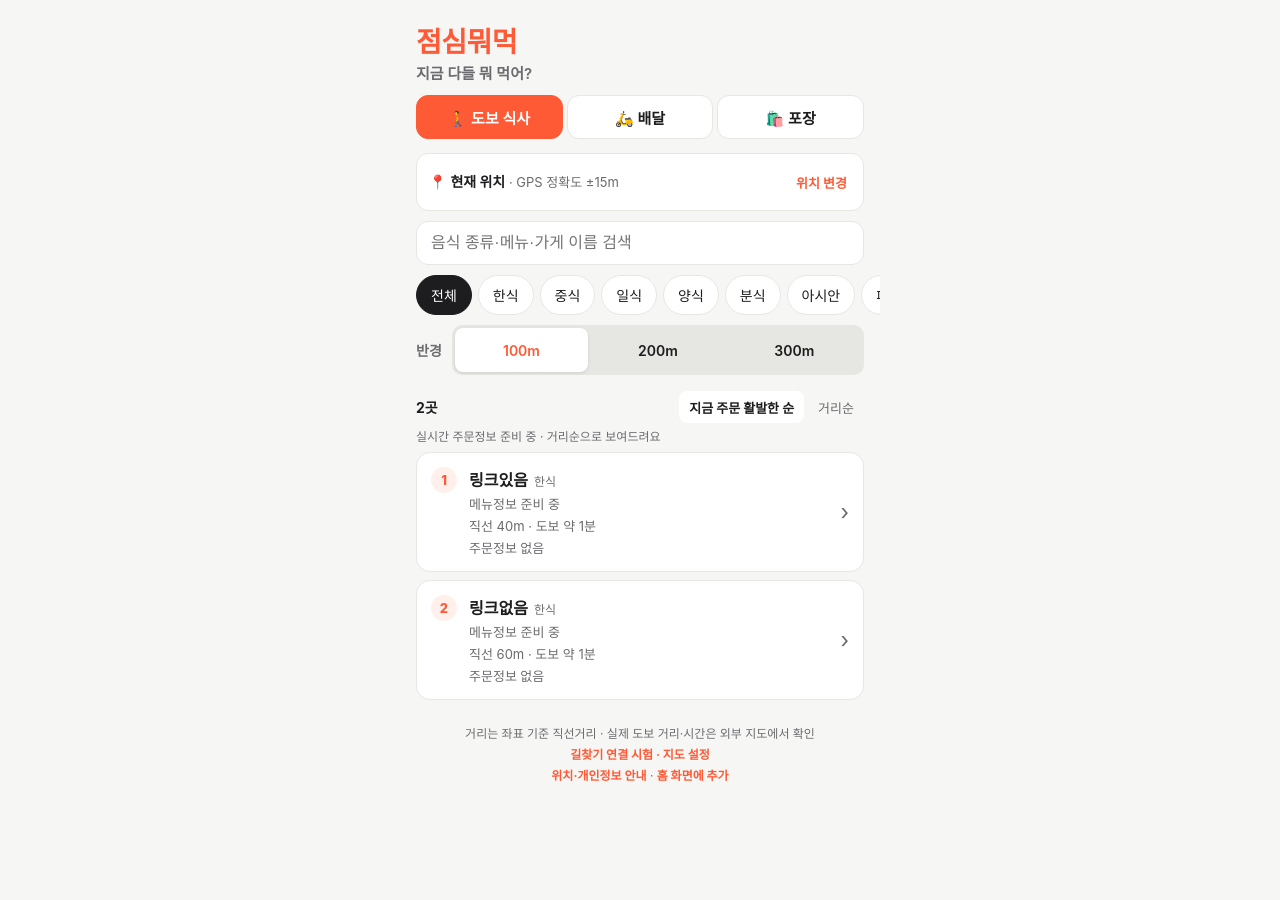
Test: 8단계 — 시범 서비스 점검 › 상세화면 ‘네이버에서 메뉴 보기’: 저장된 매장 링크 또는 이름·지역 검색 (네이버 정보임을 밝힌다)
This screenshot has width=1280, height=900.
Click the button "1 링크있음 한식 메뉴정보 준비 중 직선 40m · 도보 약 1분 주문정보 없음 ›": (498,480) [417,453,863,571]
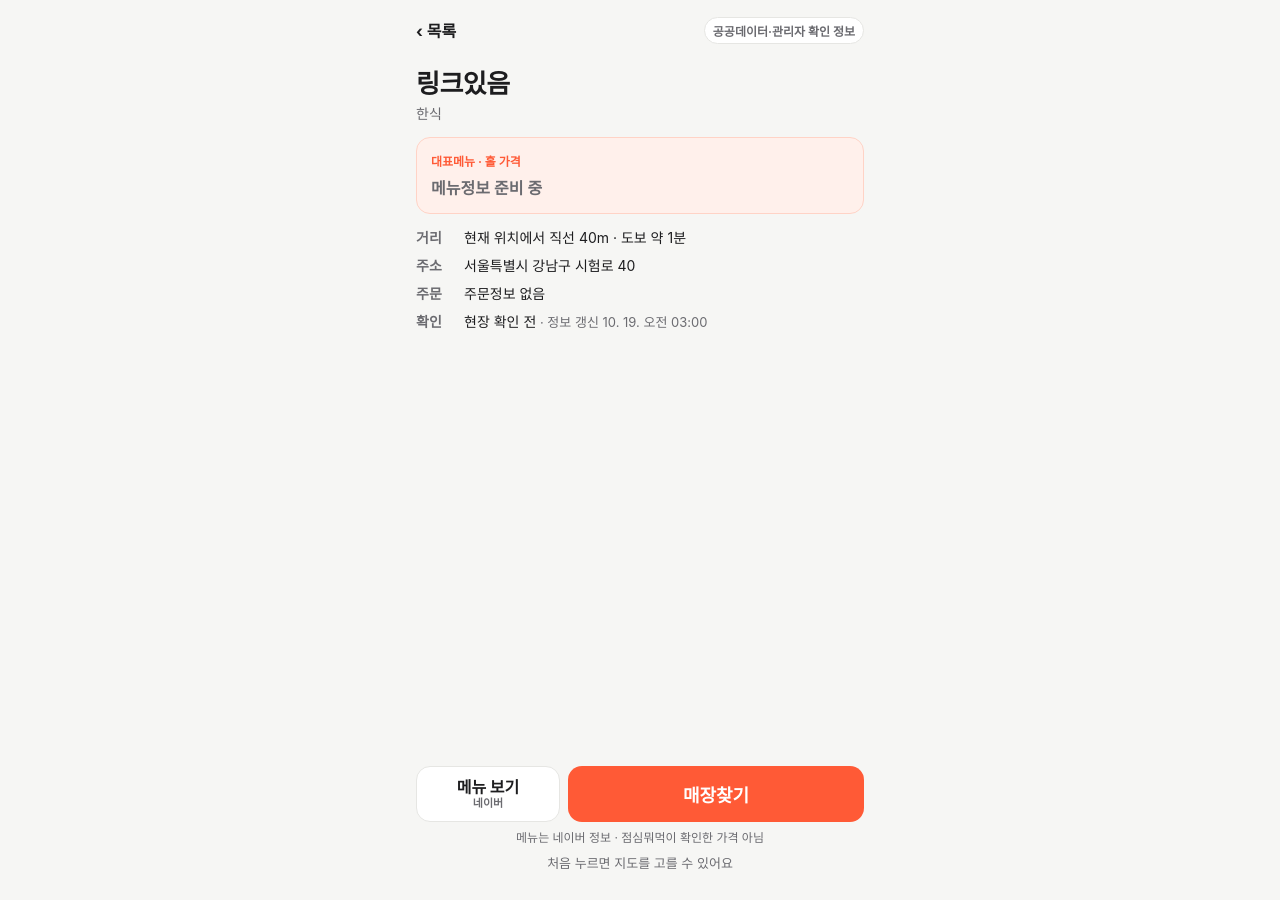
Result: the dialog named "상세정보" shows "점심뭐먹이 확인한 가격 아님" at [516,830,764,845]
Click the button "‹ 목록": (440,30) [416,8,464,52]
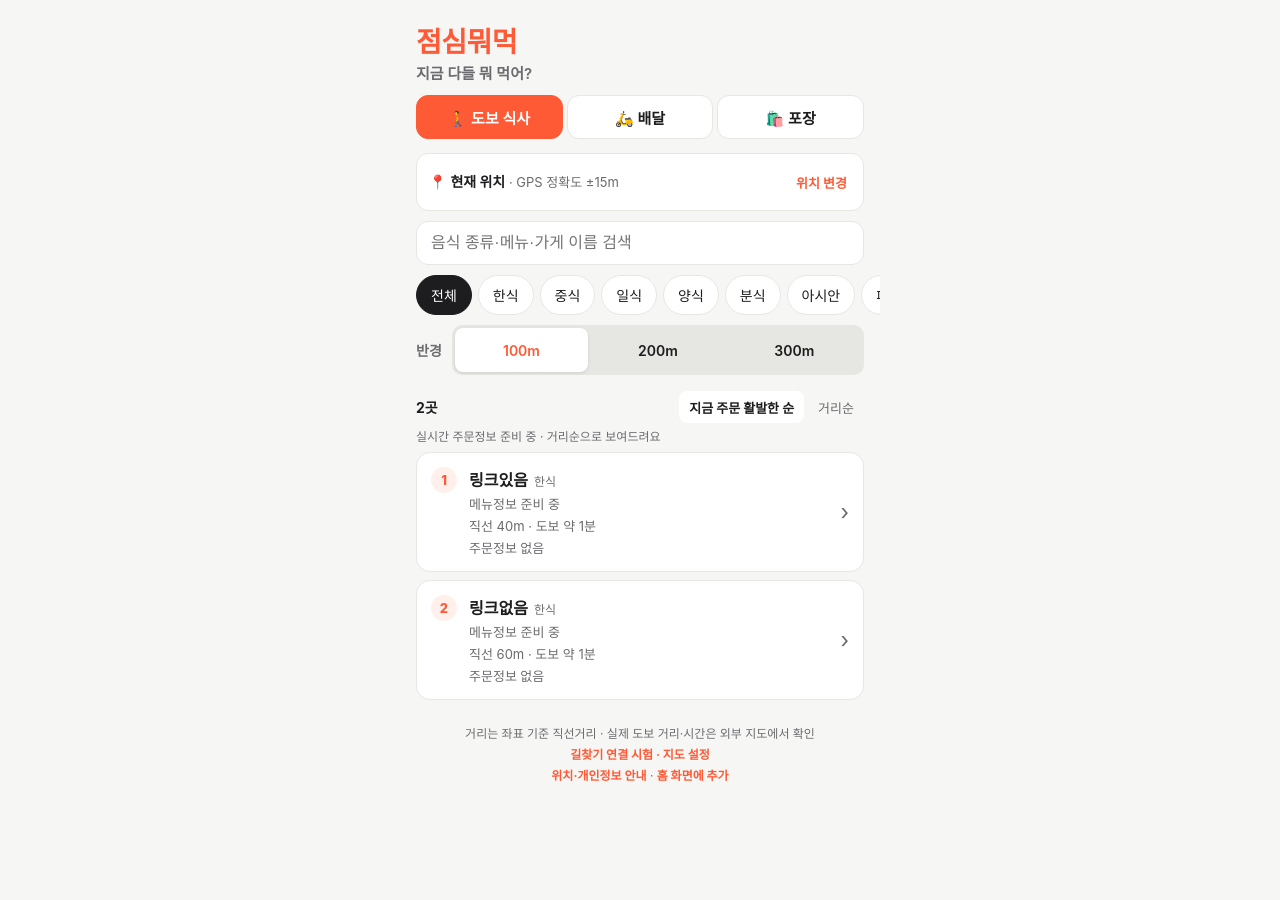
Click the button "2 링크없음 한식 메뉴정보 준비 중 직선 60m · 도보 약 1분 주문정보 없음 ›": (498,608) [417,581,863,699]
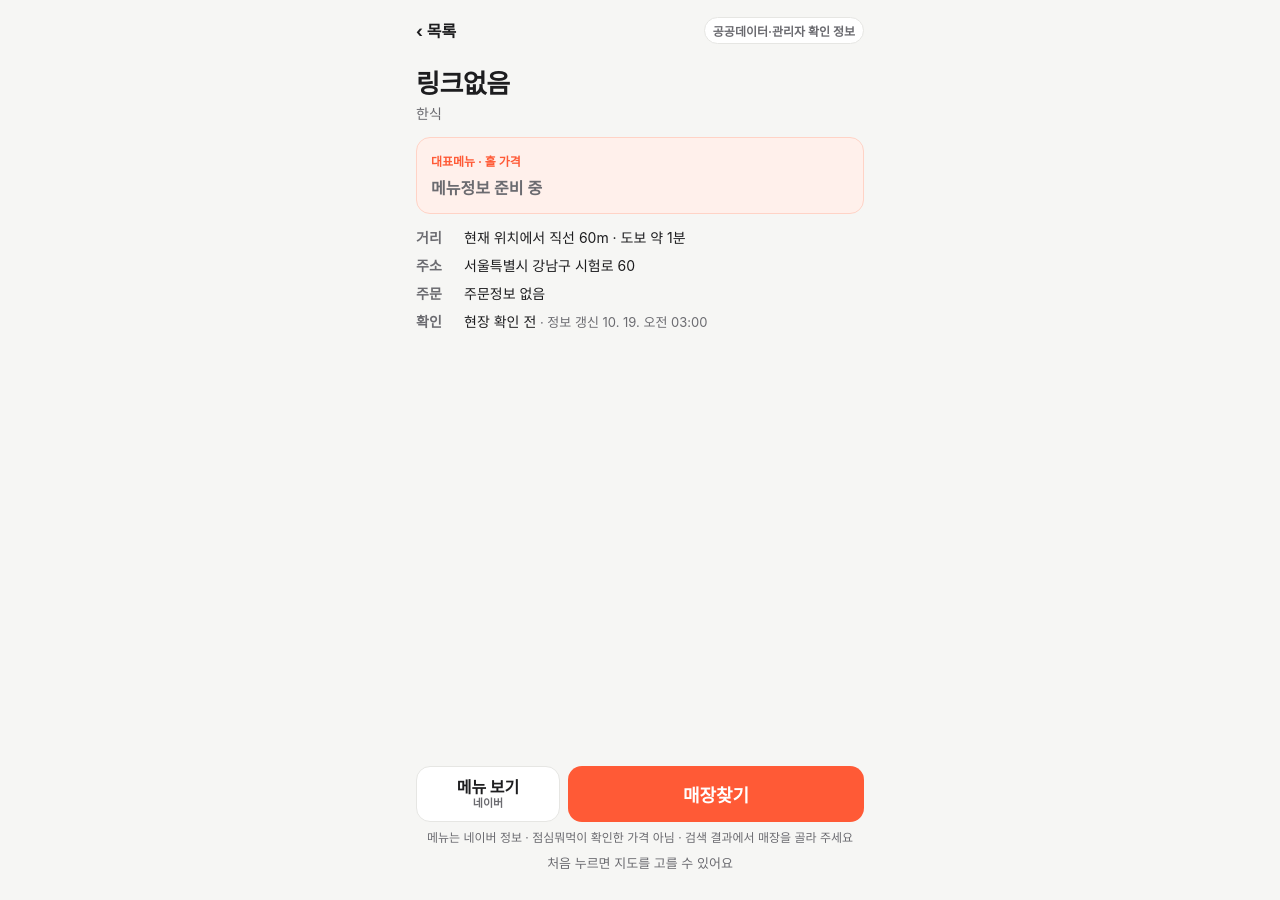
Result: the dialog named "상세정보" shows "검색 결과에서 매장을 골라 주세요" at [675,830,853,845]
